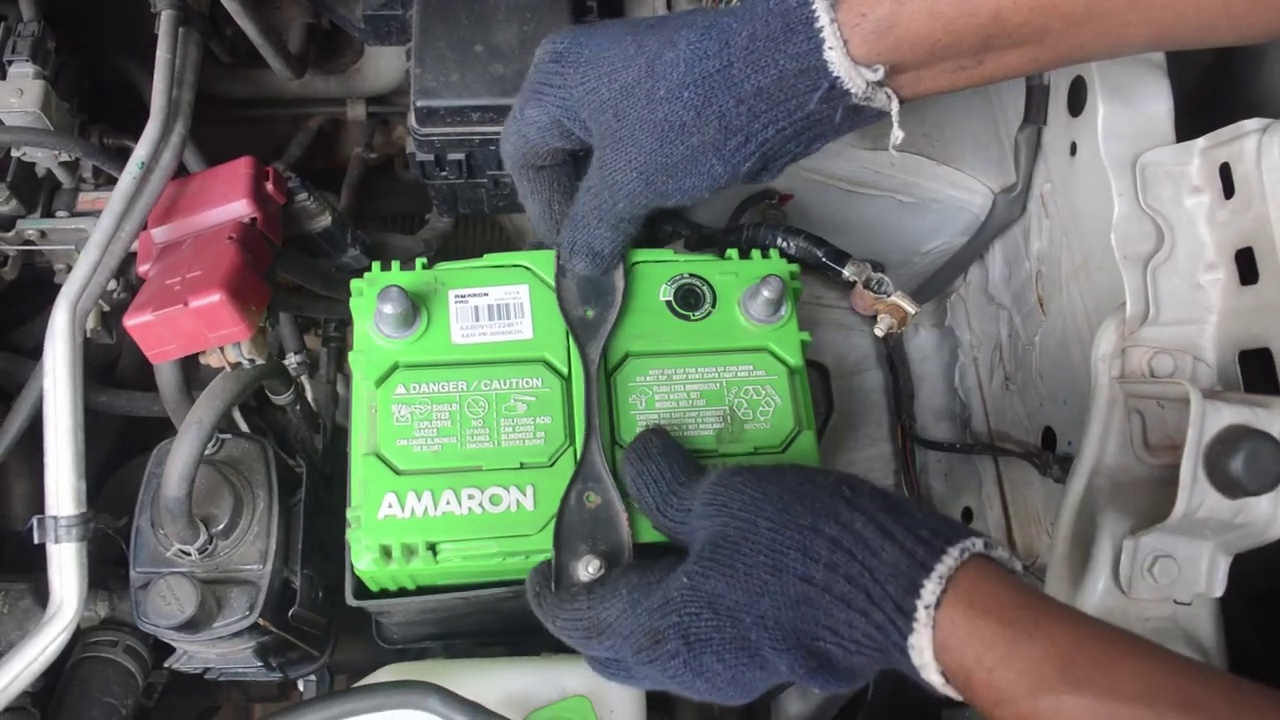battery: (335, 261, 824, 551)
neg_disconnected: (714, 246, 824, 351)
pos_disconnected: (141, 173, 446, 372)
